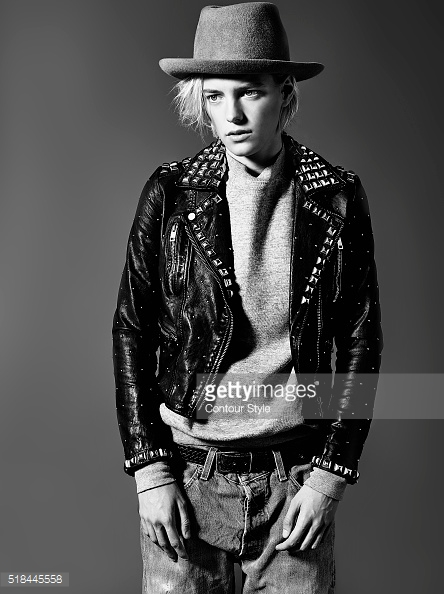em pe: (100, 20, 390, 578)
